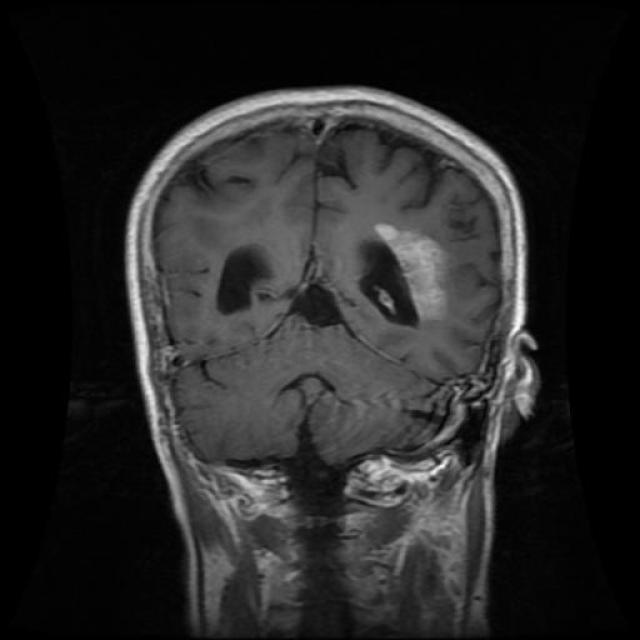glioma: (360, 220, 458, 332), (218, 240, 278, 321)
